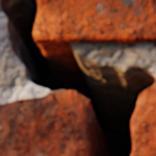brick: (33, 0, 155, 55)
broken_brick: (0, 91, 92, 155), (131, 82, 155, 155)
crack: (0, 0, 153, 155)
